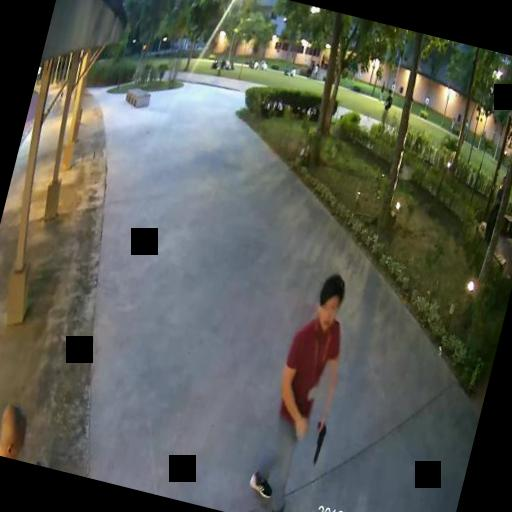Handgun: (307, 420, 327, 463)
